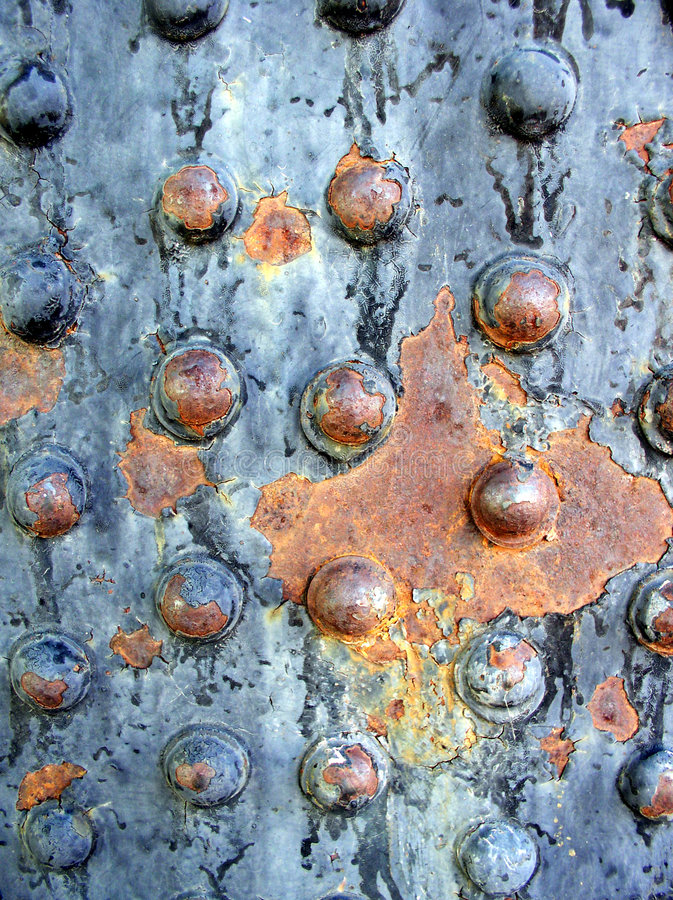rust: (260, 468, 671, 635), (166, 168, 396, 251), (158, 355, 242, 431), (480, 279, 559, 343), (163, 568, 228, 637), (24, 477, 89, 535), (20, 667, 72, 708)
